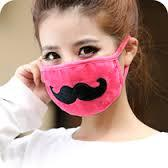OK: (41, 27, 131, 113)
